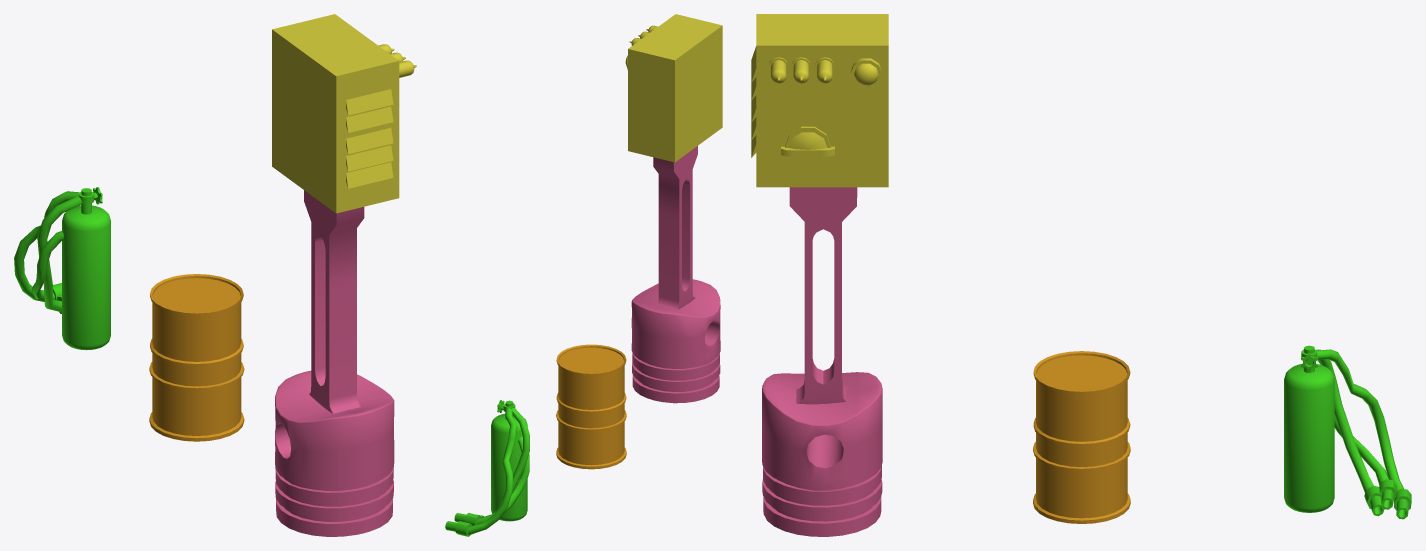
The model's file is Hazards.fbx.
3 views of the same model, side by side, from view 1: azimuth 30°, elevation 25°; view 2: azimuth 150°, elevation 25°; view 3: azimuth 270°, elevation 25° (orthographic). The views are drawn at different scales.
Parts seen in each view (by area): view 1: Vert.001, Sphere, Cylinder.003, BezierCurve.001; view 2: Vert.001, Sphere, Cylinder.003, BezierCurve.001; view 3: Vert.001, Sphere, Cylinder.003, BezierCurve.001.
Part boxes in pixels (x1,y1,x2,y2): Vert.001: [275, 190, 394, 536]; Sphere: [272, 14, 416, 213]; Cylinder.003: [149, 274, 244, 441]; BezierCurve.001: [14, 187, 110, 350]; Vert.001: [631, 146, 720, 403]; Sphere: [625, 14, 722, 162]; Cylinder.003: [556, 344, 626, 469]; BezierCurve.001: [445, 400, 529, 536]; Vert.001: [762, 187, 882, 536]; Sphere: [751, 14, 888, 187]; Cylinder.003: [1033, 351, 1130, 523]; BezierCurve.001: [1284, 345, 1411, 519].
Bounding box in the file's own units: 49.05 × 192 × 238.
